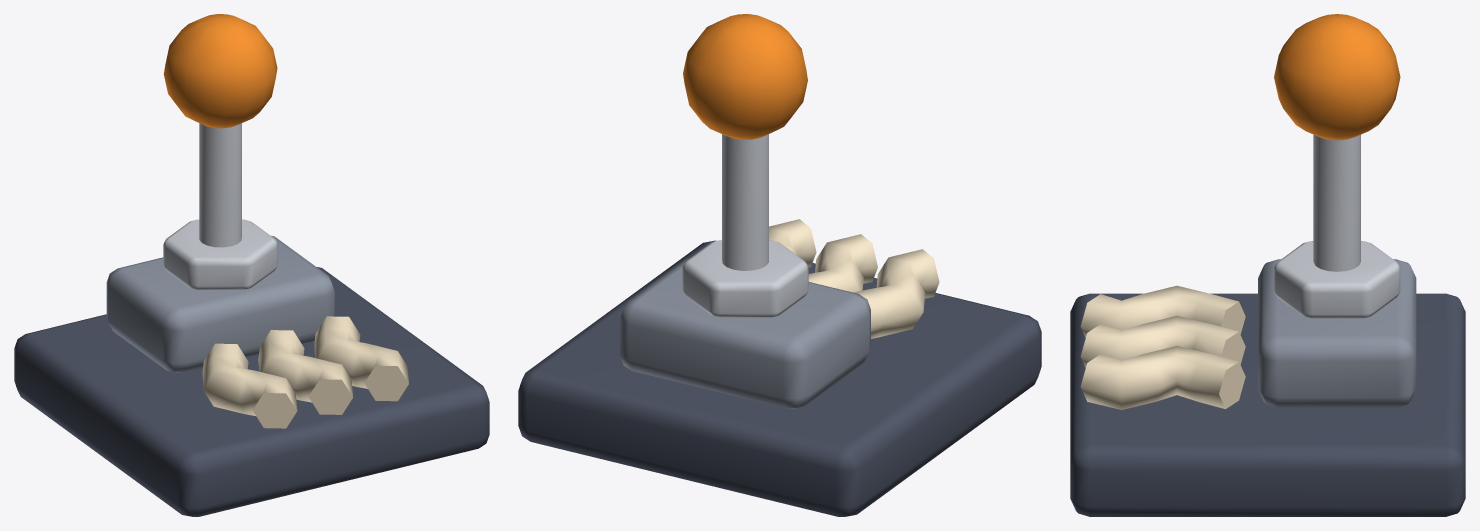
The model's file is Ctrl_Toggle_Heater.fbx.
3 renders of one model, left to right at view 1: azimuth 30°, elevation 25°; view 2: azimuth 150°, elevation 25°; view 3: azimuth 270°, elevation 25°, orthographic. The views are drawn at different scales.
Visible parts, largest first — view 1: Ctrl_Toggle_Heater.Base, Ctrl_Toggle_Heater.Housing, Ctrl_Toggle_Heater.Move_Lever, Ctrl_Toggle_Heater.Icon, Ctrl_Toggle_Heater.Nut; view 2: Ctrl_Toggle_Heater.Base, Ctrl_Toggle_Heater.Housing, Ctrl_Toggle_Heater.Move_Lever, Ctrl_Toggle_Heater.Icon, Ctrl_Toggle_Heater.Nut; view 3: Ctrl_Toggle_Heater.Base, Ctrl_Toggle_Heater.Move_Lever, Ctrl_Toggle_Heater.Icon, Ctrl_Toggle_Heater.Housing, Ctrl_Toggle_Heater.Nut.
Boxes of the visible parts, left/top/right/bottom form: Ctrl_Toggle_Heater.Base: left=14, top=267, right=489, bottom=516; Ctrl_Toggle_Heater.Housing: left=106, top=235, right=334, bottom=372; Ctrl_Toggle_Heater.Move_Lever: left=163, top=14, right=277, bottom=247; Ctrl_Toggle_Heater.Icon: left=202, top=316, right=408, bottom=428; Ctrl_Toggle_Heater.Nut: left=163, top=219, right=277, bottom=289; Ctrl_Toggle_Heater.Base: left=518, top=240, right=1041, bottom=516; Ctrl_Toggle_Heater.Housing: left=620, top=258, right=870, bottom=408; Ctrl_Toggle_Heater.Move_Lever: left=683, top=14, right=807, bottom=270; Ctrl_Toggle_Heater.Icon: left=769, top=219, right=939, bottom=338; Ctrl_Toggle_Heater.Nut: left=682, top=240, right=808, bottom=317; Ctrl_Toggle_Heater.Base: left=1070, top=293, right=1465, bottom=516; Ctrl_Toggle_Heater.Move_Lever: left=1274, top=14, right=1400, bottom=271; Ctrl_Toggle_Heater.Icon: left=1080, top=285, right=1245, bottom=409; Ctrl_Toggle_Heater.Housing: left=1258, top=259, right=1416, bottom=407; Ctrl_Toggle_Heater.Nut: left=1274, top=241, right=1400, bottom=318.
Size of the model in its own units: 0.2 by 0.235 by 0.2.
1 material, 1 textured.
